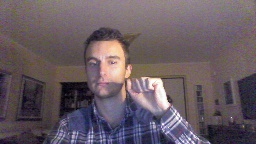Pugno: (124, 75, 174, 112)
